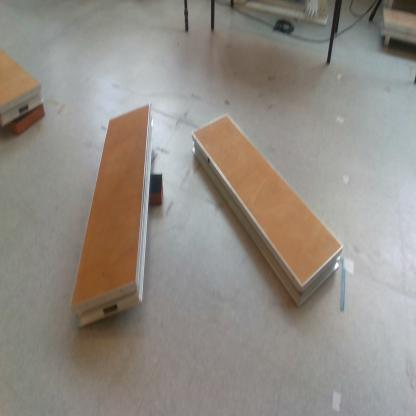Stairs: (194, 113, 347, 311), (70, 106, 154, 337), (1, 47, 45, 131)
